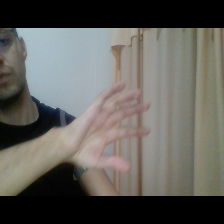left: (56, 76, 158, 176)
